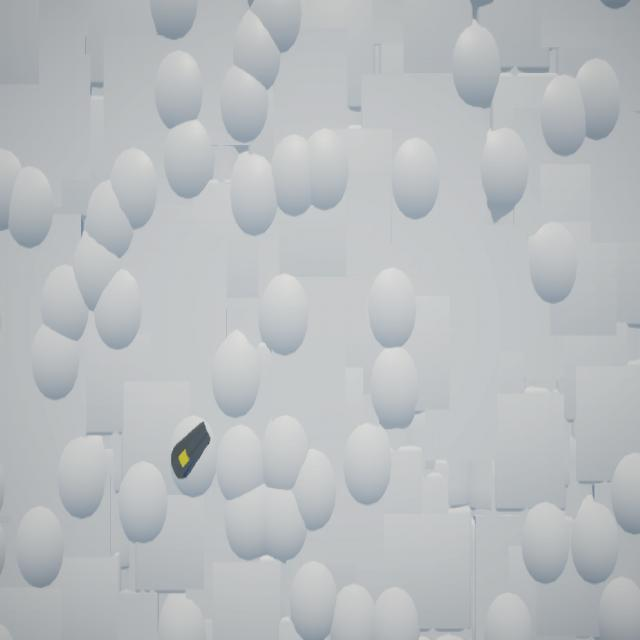handle_folk: (172, 422, 212, 481)
